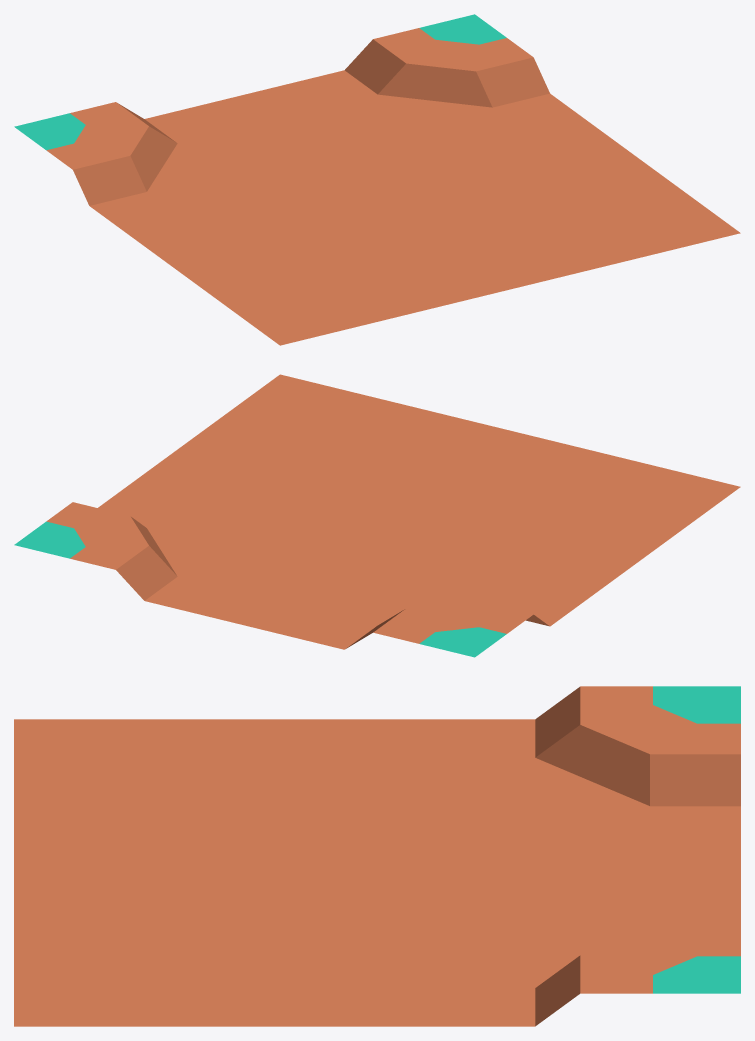
The model's file is ground_pathSideOpen.dae.
3 renders of one model, top to bottom at view 1: azimuth 30°, elevation 25°; view 2: azimuth 150°, elevation 25°; view 3: azimuth 270°, elevation 25°, orthographic. The views are drawn at different scales.
Parts seen in each view (by area): view 1: ground_pathSideOpen; view 2: ground_pathSideOpen; view 3: ground_pathSideOpen.
Part boxes in pixels (x1,y1,x2,y2): ground_pathSideOpen: (14, 14, 740, 345); ground_pathSideOpen: (14, 374, 740, 657); ground_pathSideOpen: (14, 686, 740, 1026).
Size of the model in its own units: 1 by 0.05 by 1.
